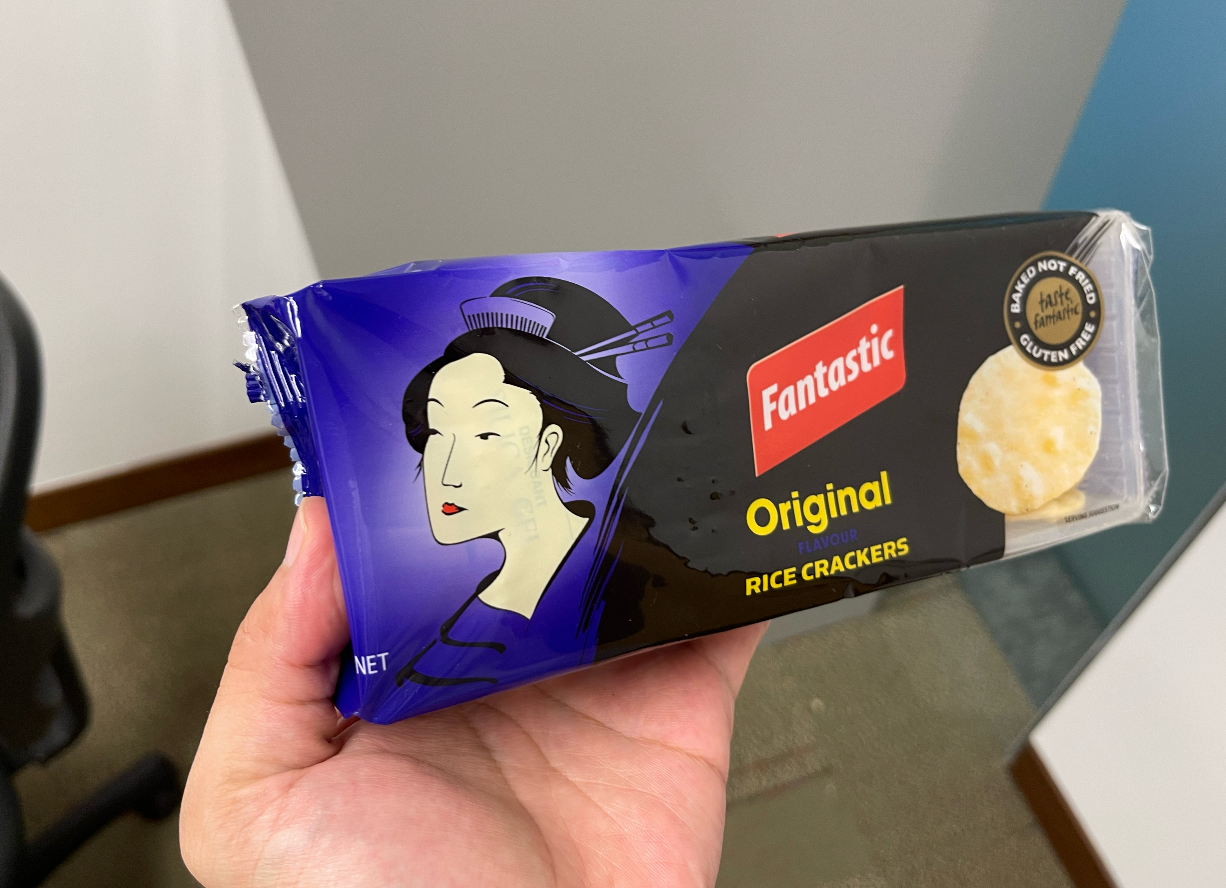crackers_100g-199g: (353, 271, 1086, 592)
